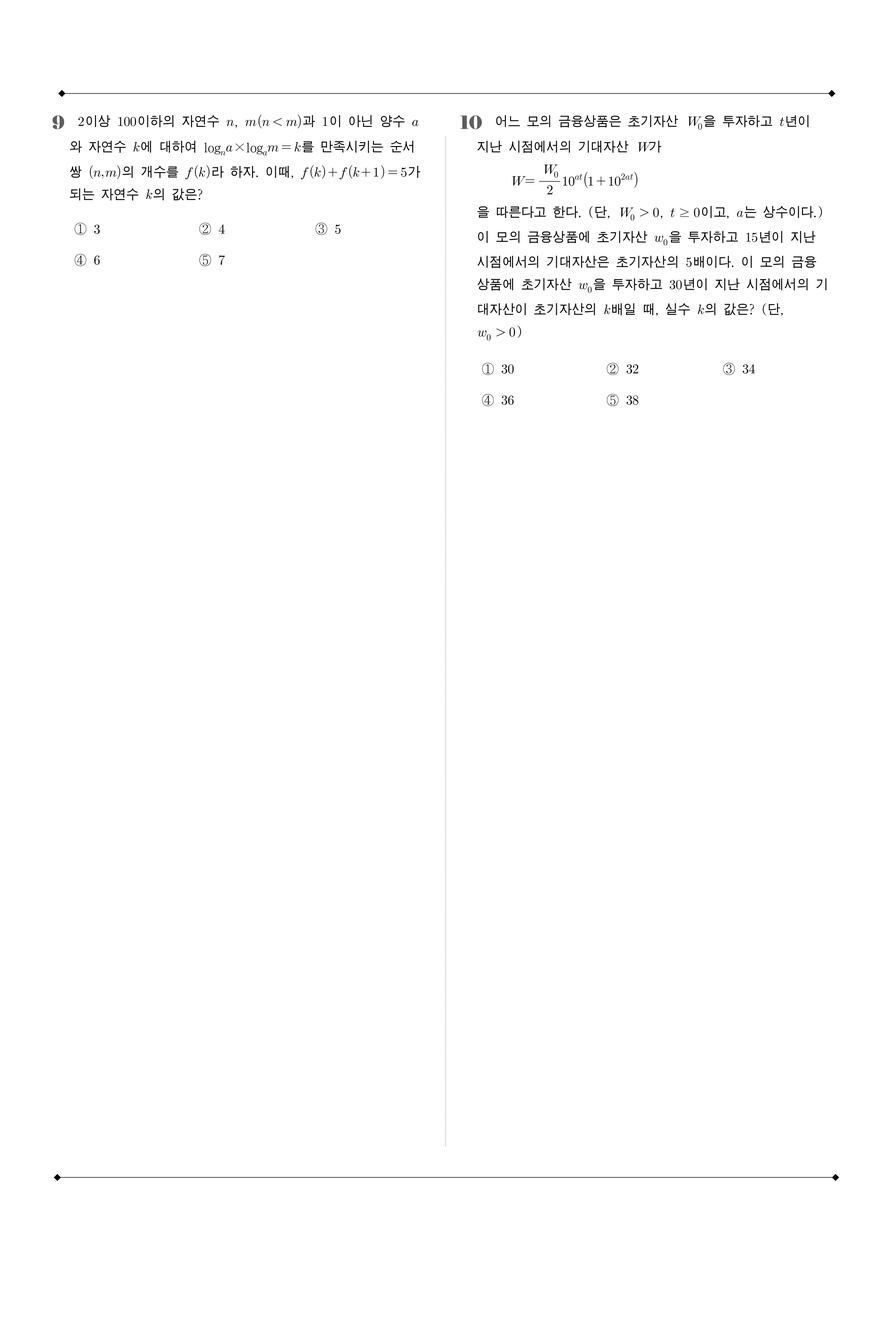problem: (449, 101, 841, 421), (50, 104, 435, 286)
